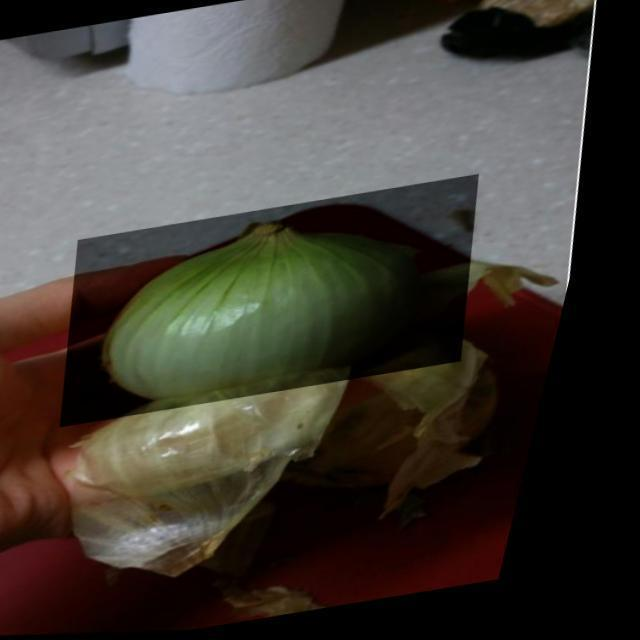Onion: (54, 176, 515, 430)
